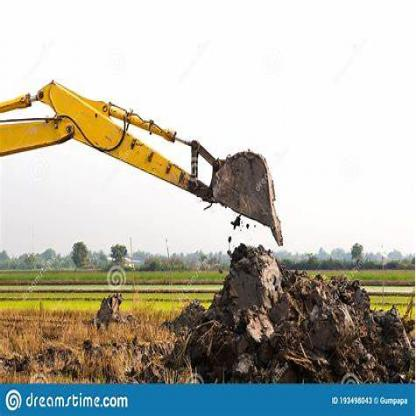excavator: (3, 64, 297, 264)
